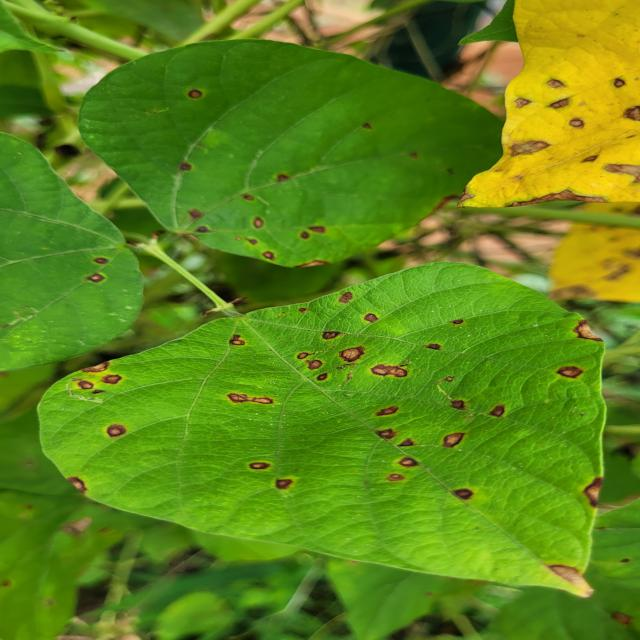Dolicos bean_cercospora leaf spot: (35, 254, 608, 600), (80, 39, 526, 262), (463, 0, 640, 223)
